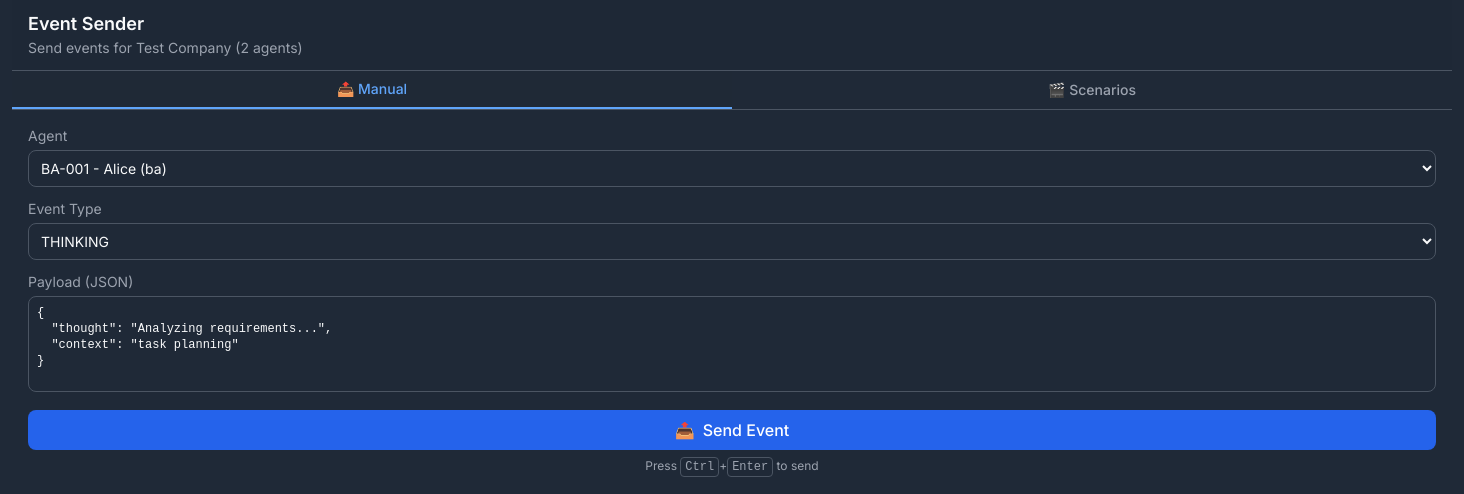
Test: EventSender › AC4: Send event › shows JSON validation error for invalid payload
Replace the text in the text box with placeholder "{ \"key\": \"value\" }" with "not valid json" at (732, 344), box [28,296,1436,392]
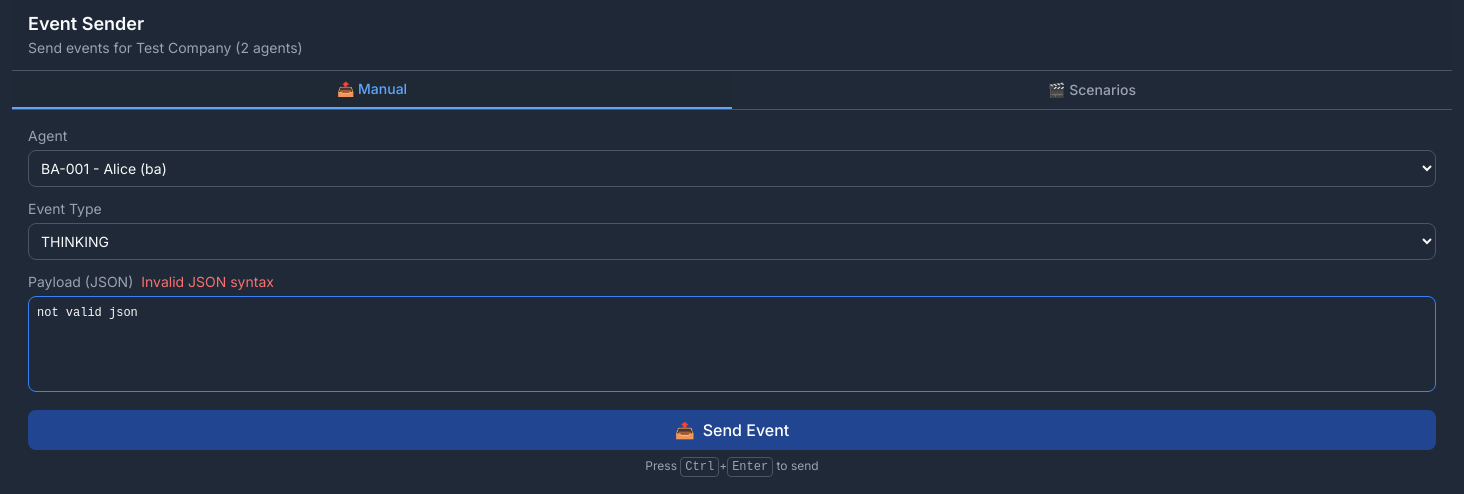
Result: the text "Invalid JSON syntax" is shown at [141,273,274,290]
